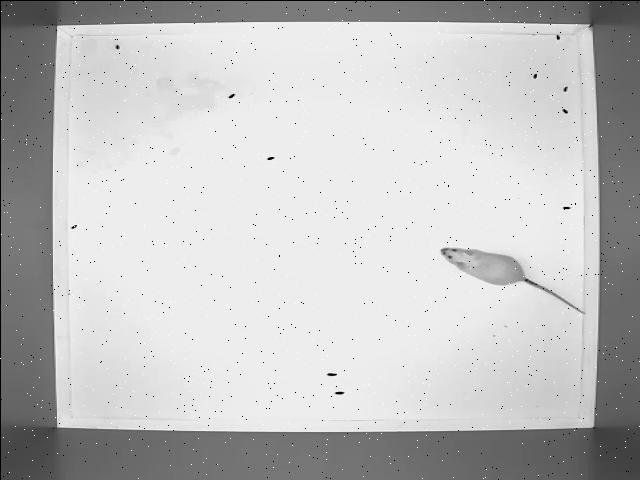Tikus: (438, 244, 586, 316)
